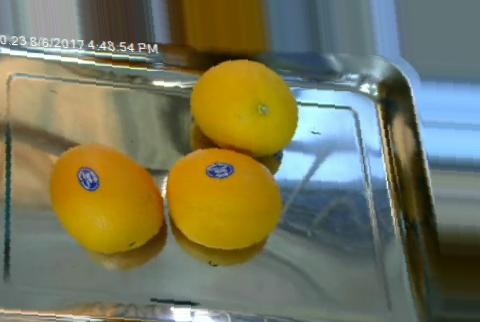Orange: (47, 142, 163, 254), (166, 148, 283, 249), (189, 59, 300, 155)
